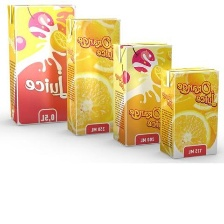carton: (3, 0, 77, 128), (109, 40, 174, 149), (64, 16, 122, 136), (159, 64, 219, 161)
